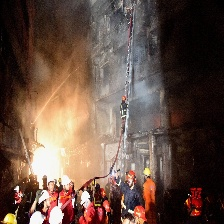fire: (29, 151, 69, 182)
